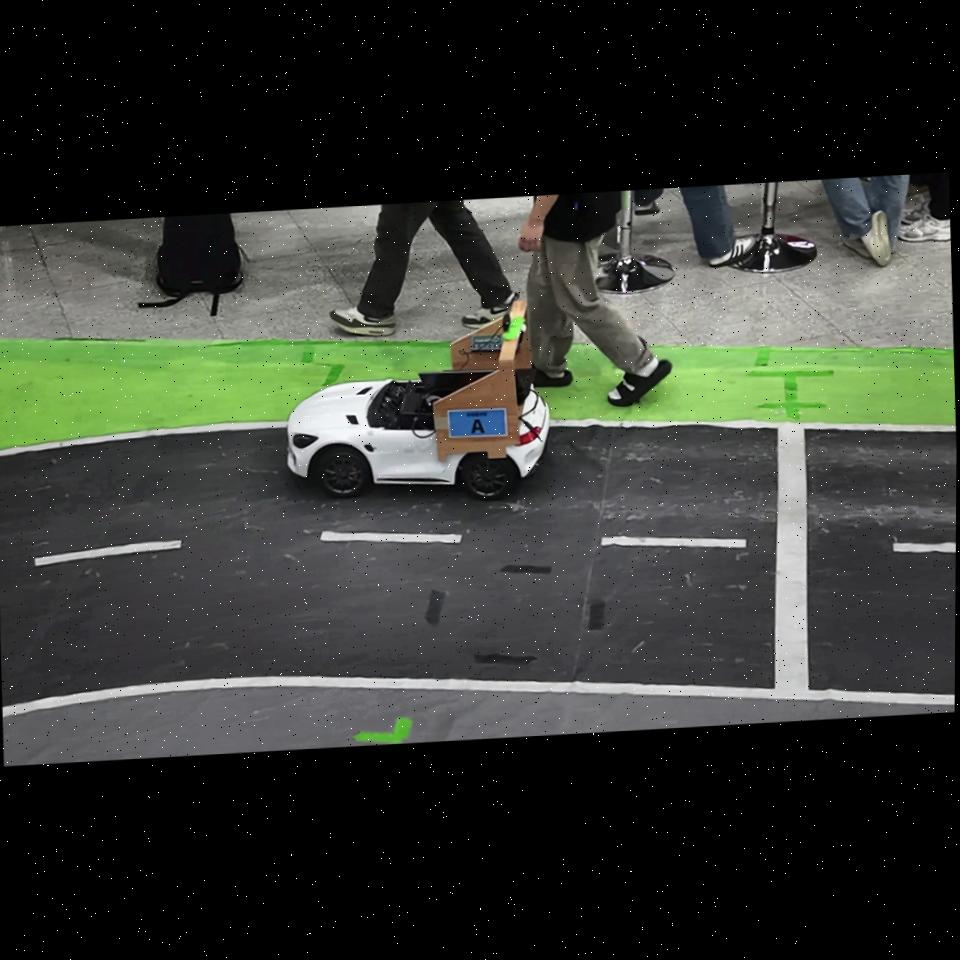broken_line: (35, 540, 182, 566), (320, 531, 463, 543), (602, 536, 747, 547), (893, 542, 956, 552)
